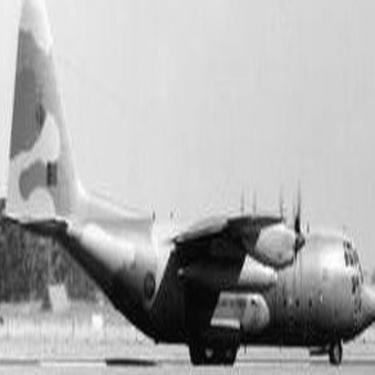airplane: (1, 3, 372, 372)
